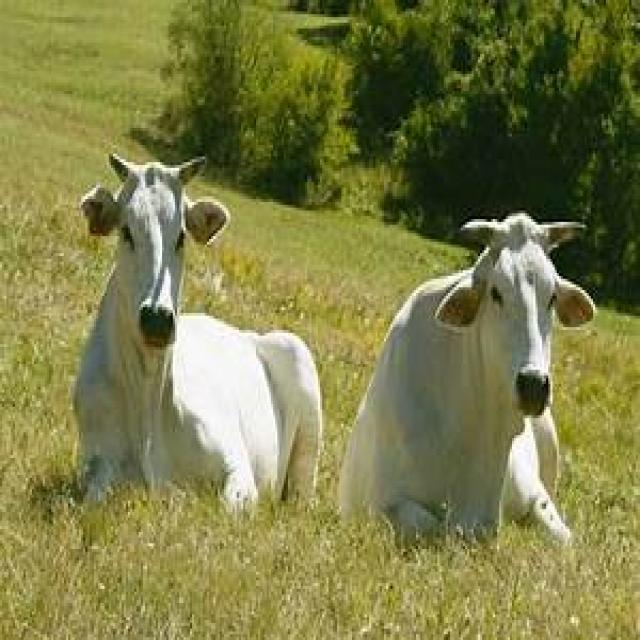cow: (70, 154, 326, 515), (335, 213, 597, 549)
